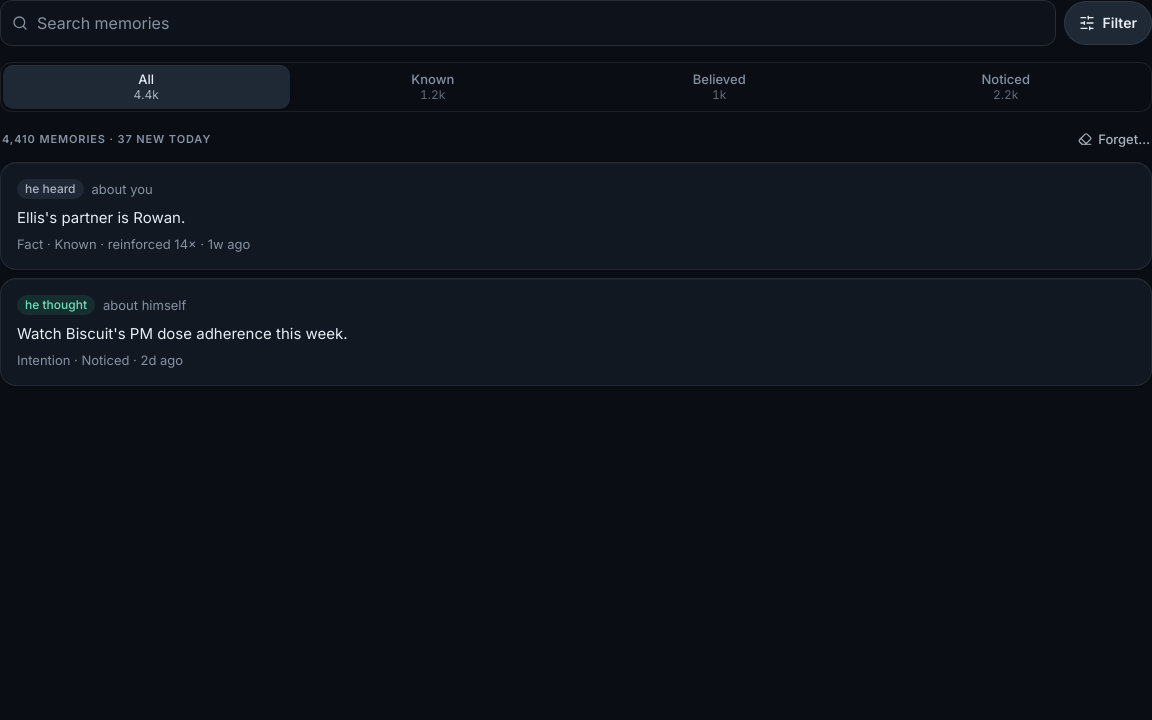
Scenario: MemoryBrowser › forgets through a preview and a confirm sheet
The width and height of the screenshot is (1152, 720).
Check: the text "Ellis's partner is Rowan." is shown, box [17,208,185,227]
Click the button "Forget…". click: (1111, 139)
box: [1070,117,1151,161]
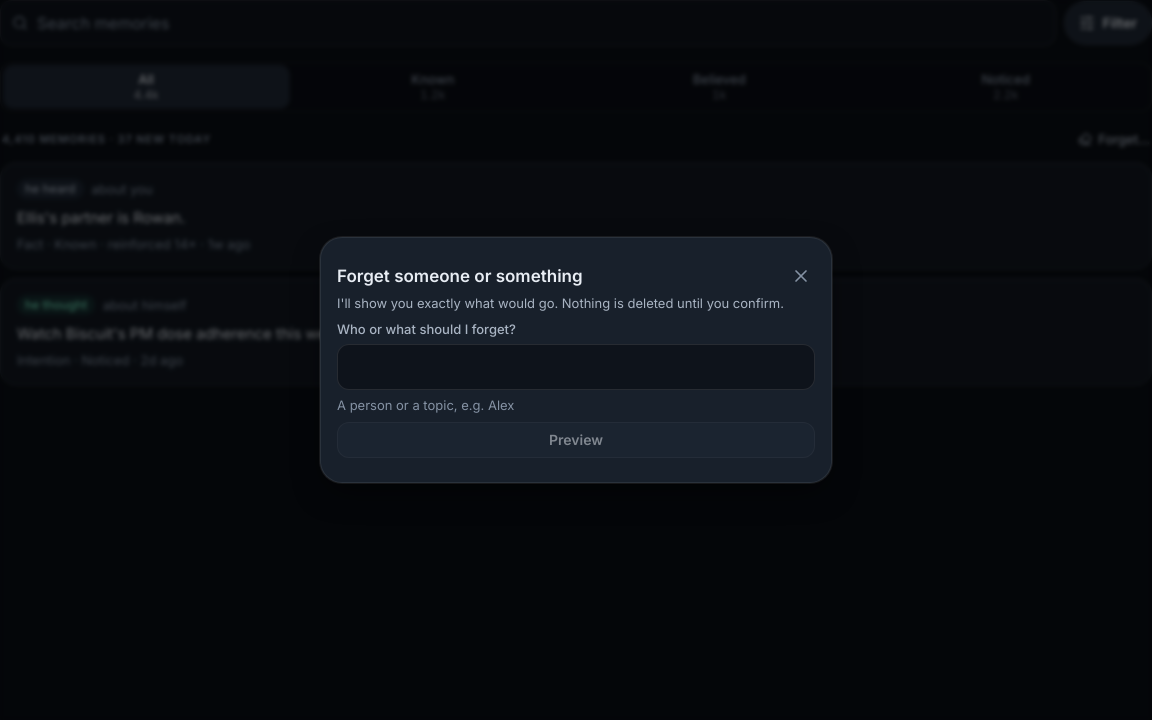
Type "Rowan" into the field labelled "Who or what should I forget?". click: (576, 367)
box: [337,344,815,390]
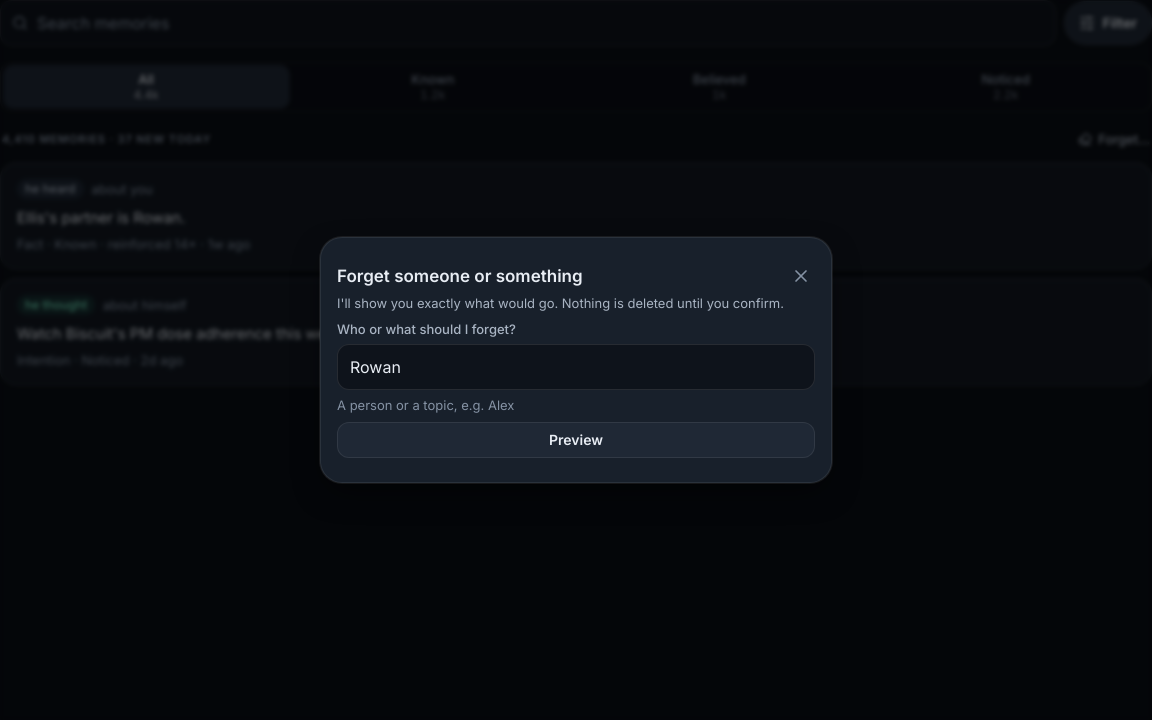
Click the button "Preview". click: (576, 440)
box: [337,422,815,458]
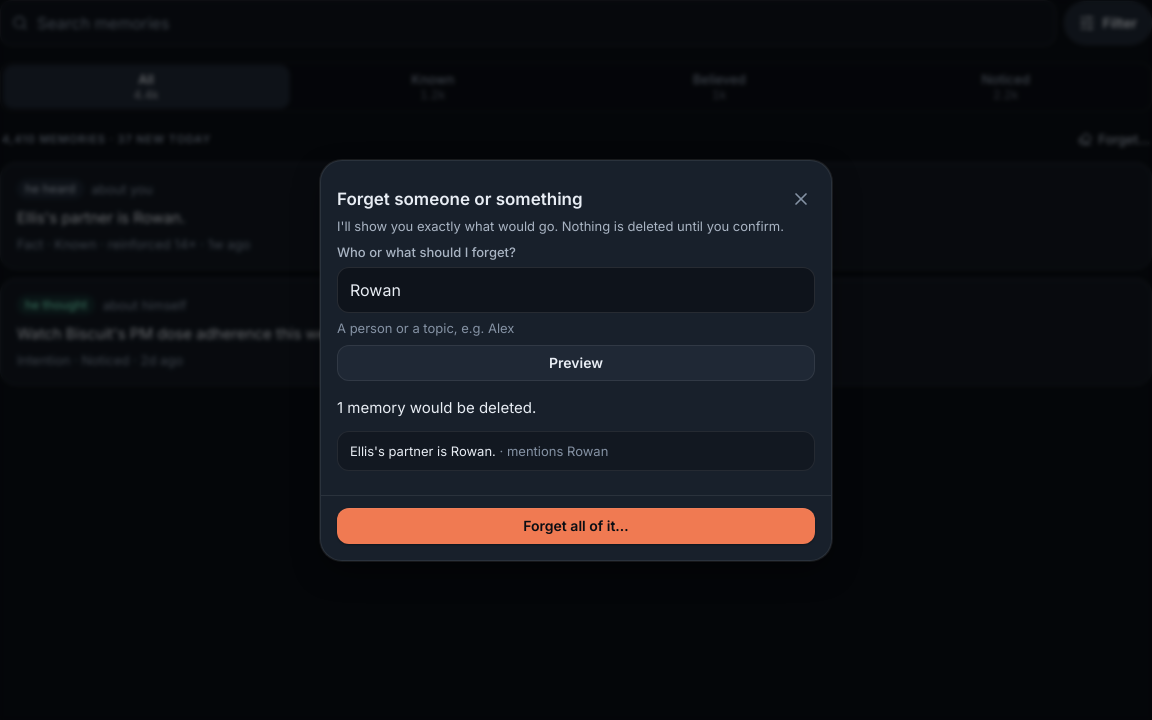
Check: the text "1 memory would be deleted." is shown, box [337,398,536,416]
Click the button "Forget all of it…". click: (576, 526)
box: [337,508,815,544]
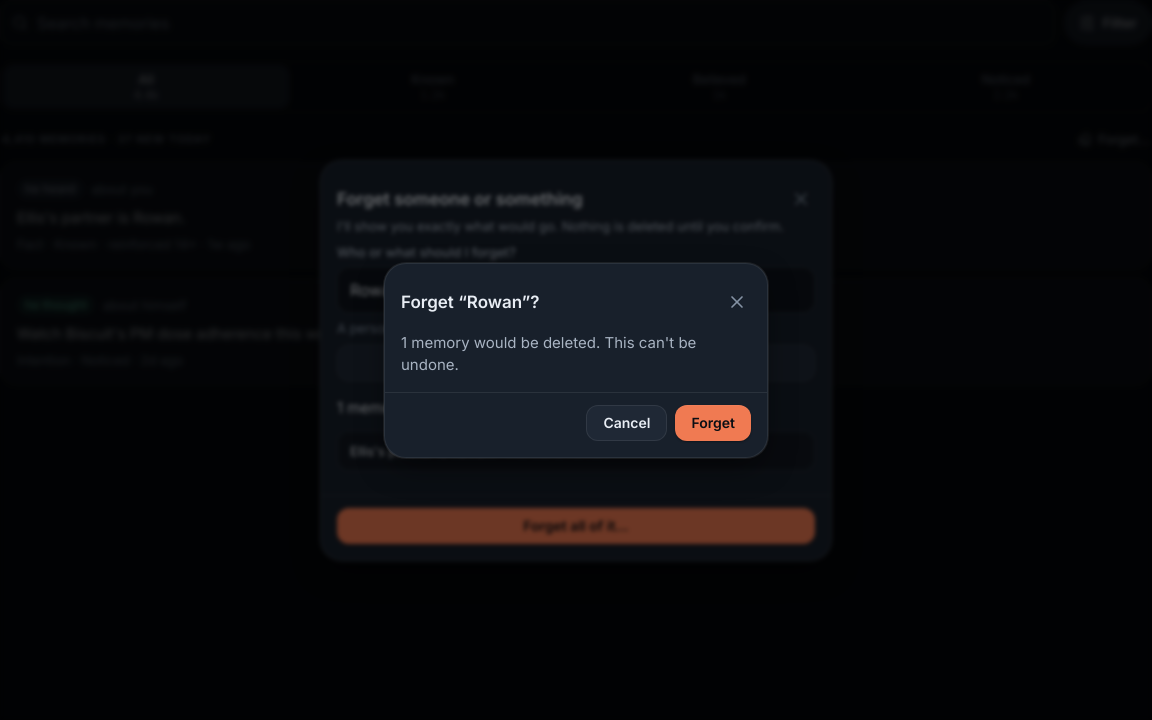
Click the button "Forget". click: (713, 422)
box: [676,404,751,440]
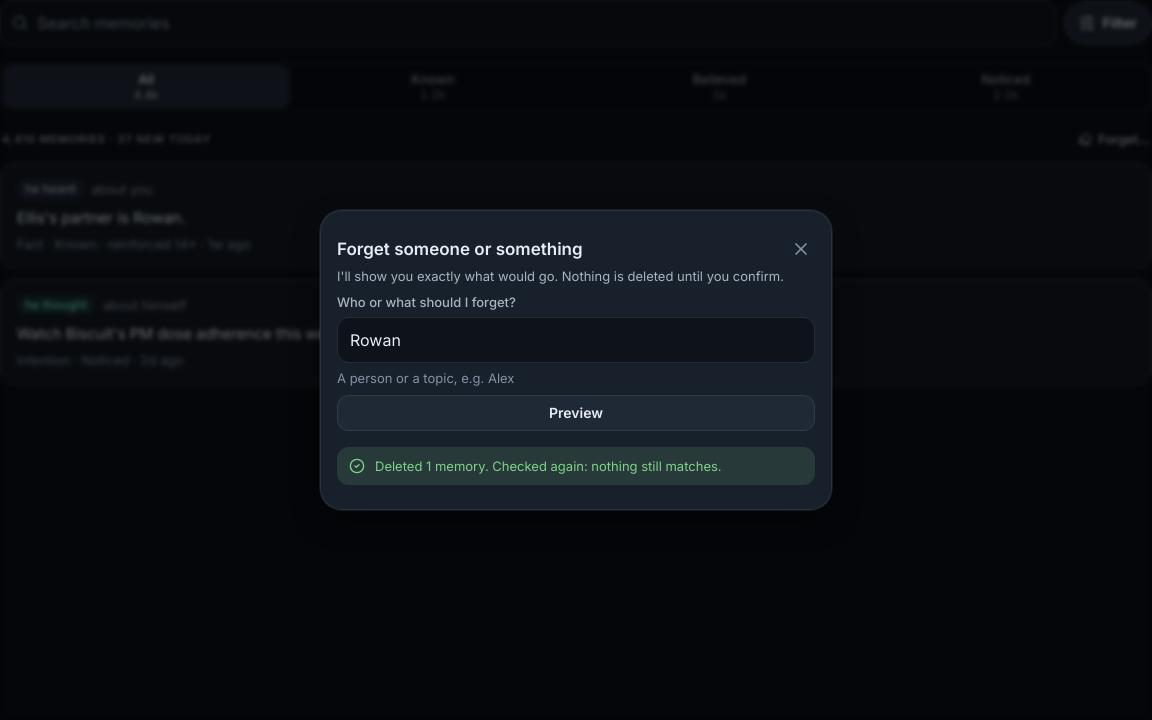
Check: the text "Deleted 1 memory. Checked again: nothing still matches." is shown, box [375,458,722,474]
